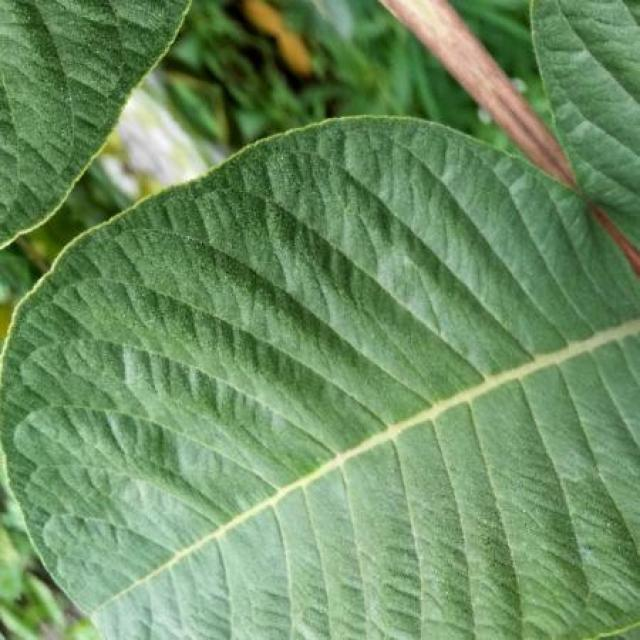Disease Free: (0, 118, 640, 640), (0, 0, 188, 247), (531, 0, 640, 247)
